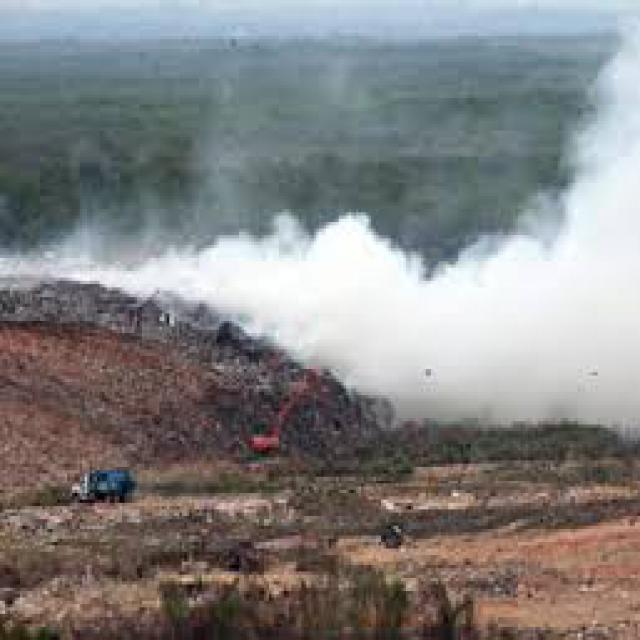smoke: (30, 209, 637, 434)
